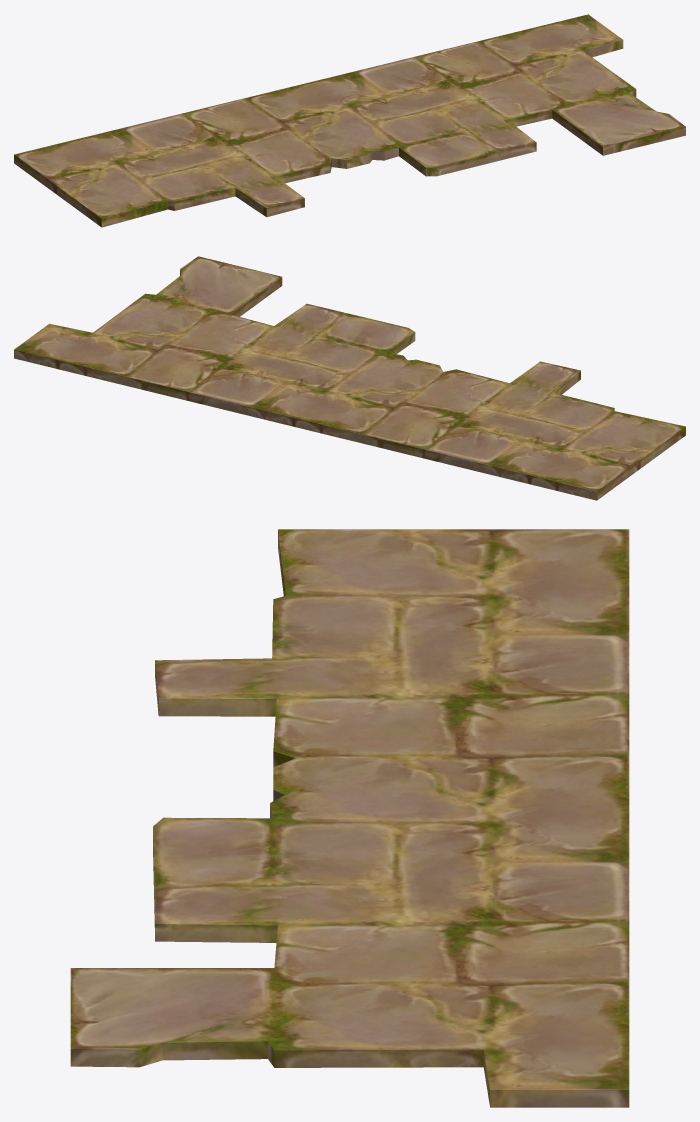
The model's file is Stage_01_01_DiMianShiKuai01.FBX.
3 views of the same model, one above another, from view 1: azimuth 30°, elevation 25°; view 2: azimuth 150°, elevation 25°; view 3: azimuth 270°, elevation 25° (orthographic). The views are drawn at different scales.
Parts seen in each view (by area): view 1: Stage_01_01_DiMianShiKuai01; view 2: Stage_01_01_DiMianShiKuai01; view 3: Stage_01_01_DiMianShiKuai01.
Part boxes in pixels (bbox=[...]): Stage_01_01_DiMianShiKuai01: bbox=[14, 14, 685, 227]; Stage_01_01_DiMianShiKuai01: bbox=[14, 256, 685, 500]; Stage_01_01_DiMianShiKuai01: bbox=[70, 529, 629, 1107].
Size of the model in its own units: 1024 by 15.05 by 431.
